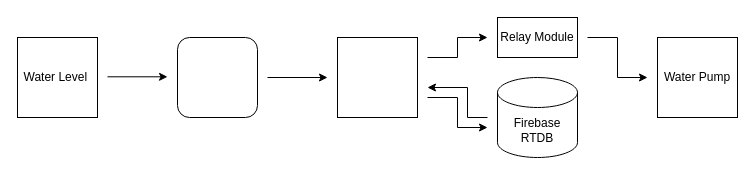
This 755x175 diagram has some shape labels left out. Each missing label, with the box of its shape:
ESP32: (336, 36, 418, 118)
HCSR04 Sonar Module: (176, 36, 258, 118)
